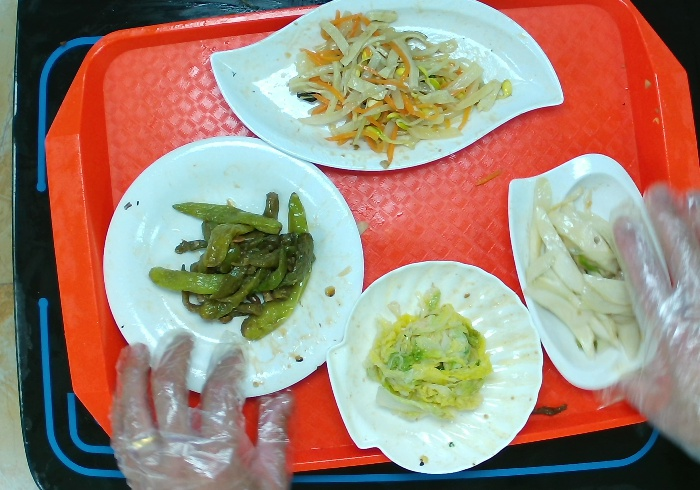RJxy-Bei_Ke_Wan: (325, 259, 544, 475)
RJxy-Jian_Jiao_Fang_Die: (506, 151, 674, 392)
RJxy-Jian_Jiao_Pan: (208, 1, 566, 173)
RJxy-Yuan_Pan: (102, 134, 366, 398)
